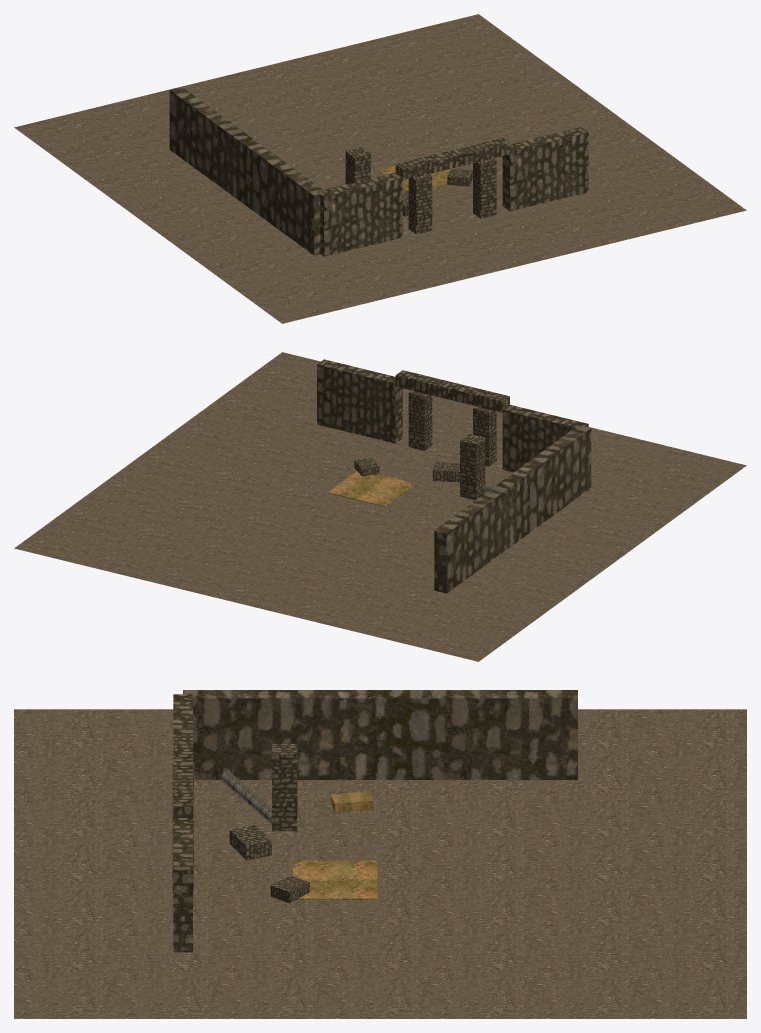
The model's file is room.glb.
The picture shows the model from 3 angles, top to bottom: view 1: azimuth 30°, elevation 25°; view 2: azimuth 150°, elevation 25°; view 3: azimuth 270°, elevation 25°; orthographic projection. The views are drawn at different scales.
Visible parts, largest first — view 1: ground, wall_side, wall_back_R, wall_back_L, wall_back_top, wall_back_pier_L, wall_back_pier_R, pillar; view 2: ground, wall_side, wall_back_R, wall_back_L, wall_back_top, moss_patch, pillar, wall_back_pier_R, wall_back_pier_L, rubble_1; view 3: ground, wall_side, moss_patch, wall_back_R, pillar, wall_back_top, rubble_1, trunk, wall_back_L, rubble_3, rubble_2.
Boxes of the visible parts, box(x1,y1,x2,y2) form: ground: box(14, 14, 746, 323); wall_side: box(169, 87, 325, 255); wall_back_R: box(502, 127, 588, 211); wall_back_L: box(318, 172, 402, 256); wall_back_top: box(395, 138, 509, 180); wall_back_pier_L: box(408, 174, 432, 234); wall_back_pier_R: box(473, 158, 496, 218); pillar: box(345, 147, 370, 184); ground: box(14, 352, 746, 661); wall_side: box(434, 425, 591, 593); wall_back_R: box(317, 359, 402, 443); wall_back_L: box(502, 405, 588, 472); wall_back_top: box(395, 370, 509, 412); moss_patch: box(328, 471, 415, 506); pillar: box(460, 434, 485, 500); wall_back_pier_R: box(408, 390, 432, 450); wall_back_pier_L: box(473, 406, 496, 466); rubble_1: box(432, 462, 459, 482); ground: box(14, 709, 746, 1018); wall_side: box(183, 690, 577, 779); moss_patch: box(293, 860, 377, 899); wall_back_R: box(173, 818, 192, 952); pillar: box(272, 744, 297, 831); wall_back_top: box(173, 735, 192, 817); rubble_1: box(229, 825, 271, 860); trunk: box(221, 771, 271, 824); wall_back_L: box(173, 694, 192, 734); rubble_3: box(330, 791, 373, 813); rubble_2: box(270, 875, 309, 903).
Bounding box in the file's own units: 26 × 3.69 × 26.
4 materials, 4 textured.
